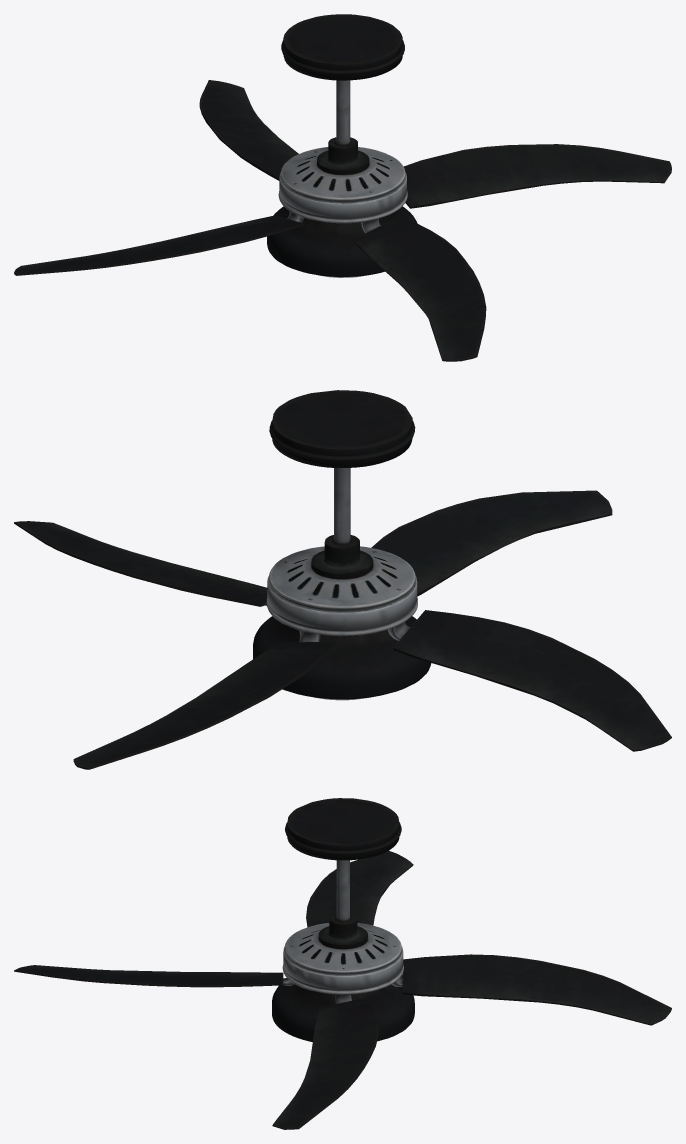
The model's file is ceiling_fan.glb.
3 views of the same model, one above another, from view 1: azimuth 30°, elevation 25°; view 2: azimuth 150°, elevation 25°; view 3: azimuth 270°, elevation 25° (orthographic). The views are drawn at different scales.
Parts seen in each view (by area): view 1: ceiling_fan; view 2: ceiling_fan; view 3: ceiling_fan.
Part boxes in pixels (x1,y1,x2,y2): ceiling_fan: (14, 14, 671, 361); ceiling_fan: (14, 390, 671, 769); ceiling_fan: (14, 798, 671, 1129).
Size of the model in its own units: 1.46 by 0.5163 by 1.46.
Materials: 1 (1 with a texture image).
